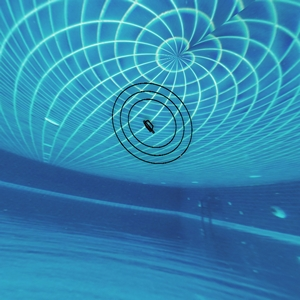submarine: (144, 121, 155, 132)
